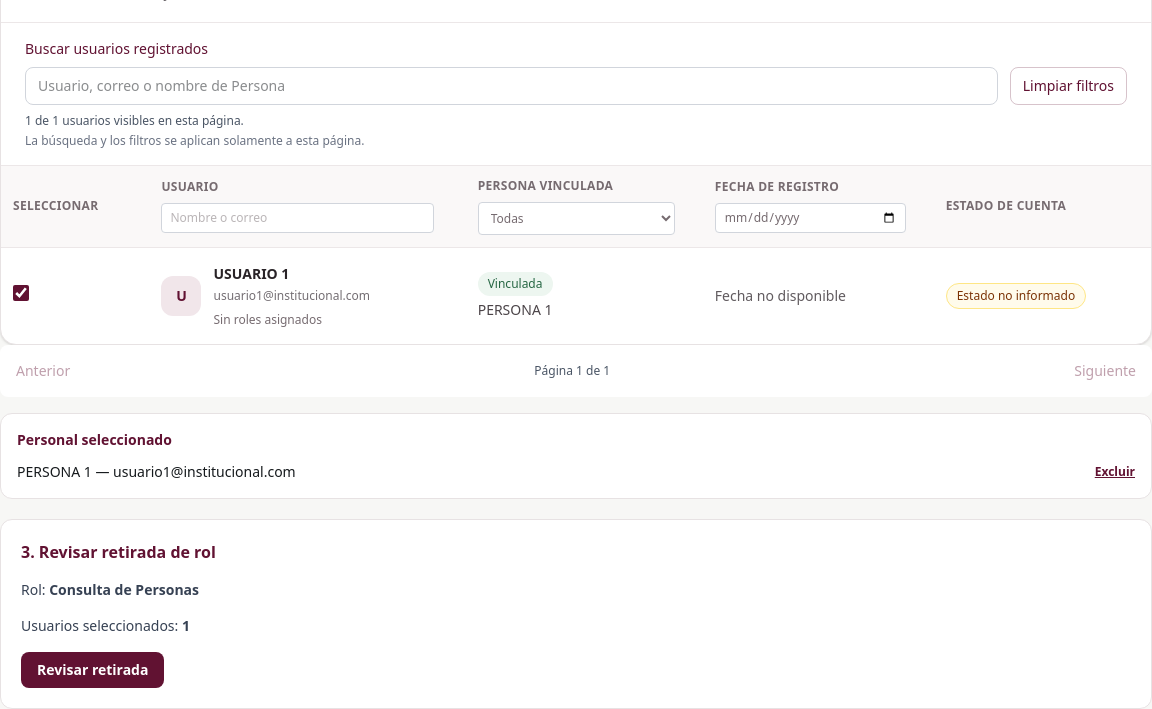
Test: BulkRoleAssignmentPageComponent › muestra revisar retirada despues del personal seleccionado
The image size is (1152, 709).
(page scrolled)
Expected: the element with test id "bulk-page-selection-preview" is shown, [0,412,1151,498]
Expected: the element with test id "bulk-page-removal-review" is shown, [0,518,1151,708]
Click the button with test id "bulk-page-open-removal-review" at (93, 670), box [21,652,164,688]
(page scrolled)
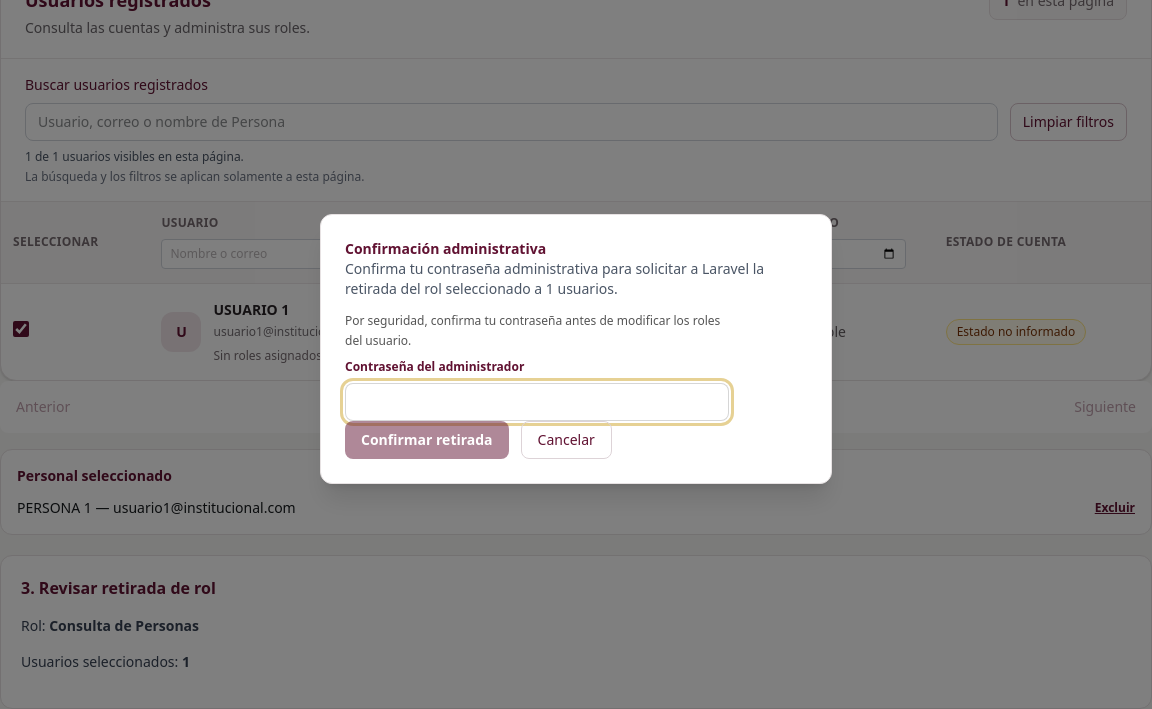
Result: the dialog is shown at [320,214,832,484]
